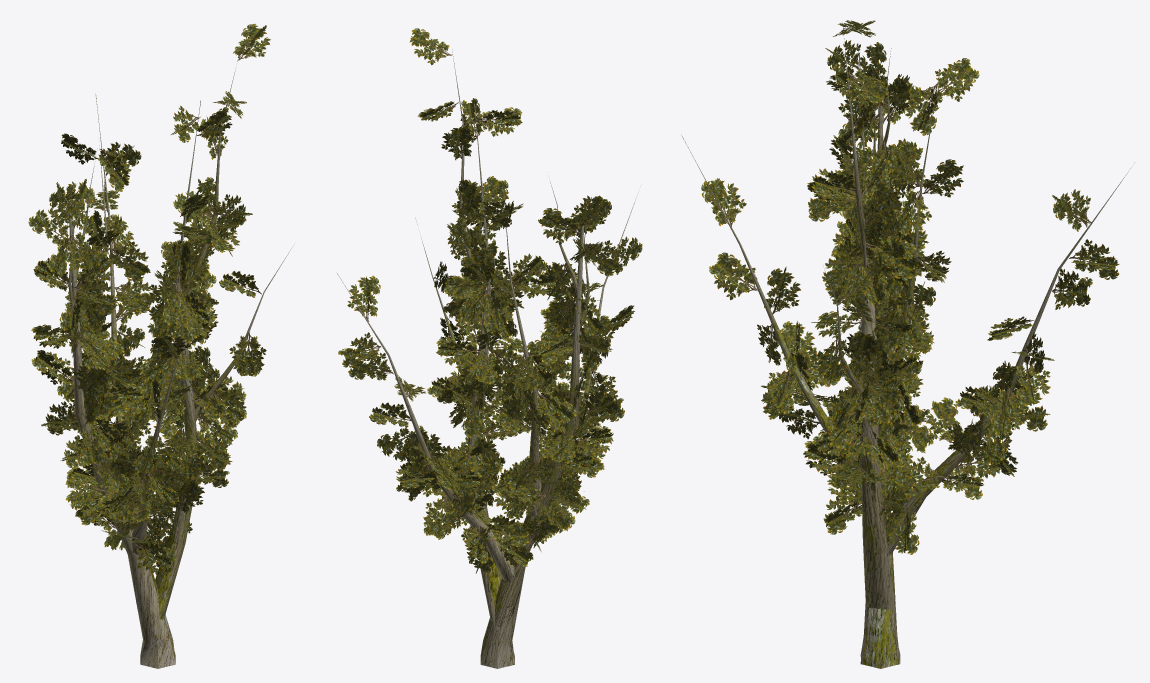
File: tree2_model.fbx
3 views of the same model, side by side, from view 1: azimuth 30°, elevation 25°; view 2: azimuth 150°, elevation 25°; view 3: azimuth 270°, elevation 25° (orthographic). The views are drawn at different scales.
Visible parts, largest first — view 1: Tree2; view 2: Tree2; view 3: Tree2.
Part boxes in pixels (bbox=[...]): Tree2: bbox=[28, 23, 291, 668]; Tree2: bbox=[337, 28, 642, 668]; Tree2: bbox=[681, 20, 1131, 668].
Bounding box in the file's own units: 2435 × 6011 × 3528.
